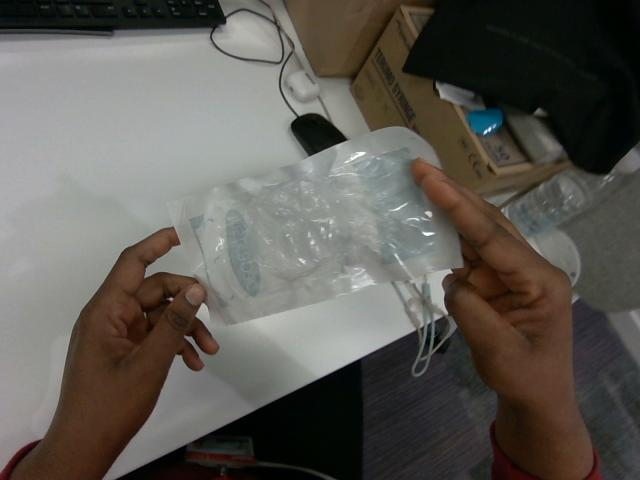gallipot: (169, 127, 461, 323)
